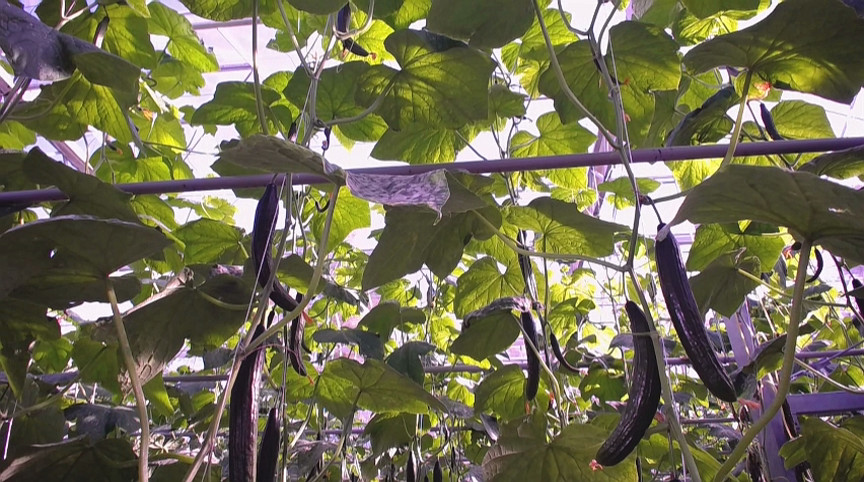cucumber: (656, 222, 738, 406), (596, 299, 661, 466), (229, 326, 270, 482), (253, 185, 299, 313), (258, 405, 281, 482), (522, 309, 539, 400)
